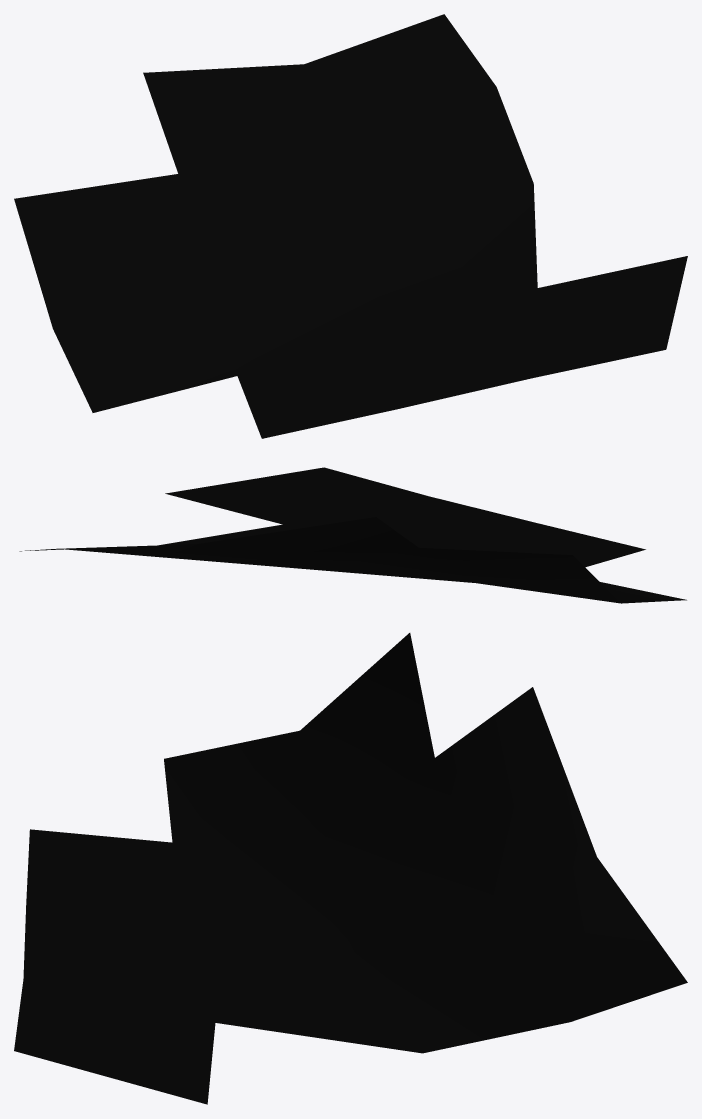
File: HTOWN01_TREESHADOWS33.fbx
3 views of the same model, one above another, from view 1: azimuth 30°, elevation 25°; view 2: azimuth 150°, elevation 25°; view 3: azimuth 270°, elevation 25° (orthographic). The views are drawn at different scales.
Parts seen in each view (by area): view 1: HTOWN01_TREESHADOWS33; view 2: HTOWN01_TREESHADOWS33; view 3: HTOWN01_TREESHADOWS33.
Part boxes in pixels (x1,y1,x2,y2): HTOWN01_TREESHADOWS33: (14, 14, 687, 438); HTOWN01_TREESHADOWS33: (19, 467, 686, 603); HTOWN01_TREESHADOWS33: (14, 633, 687, 1104).
Bounding box in the file's own units: 224780 × 62921 × 189316.
Materials: 1 (1 with a texture image).
